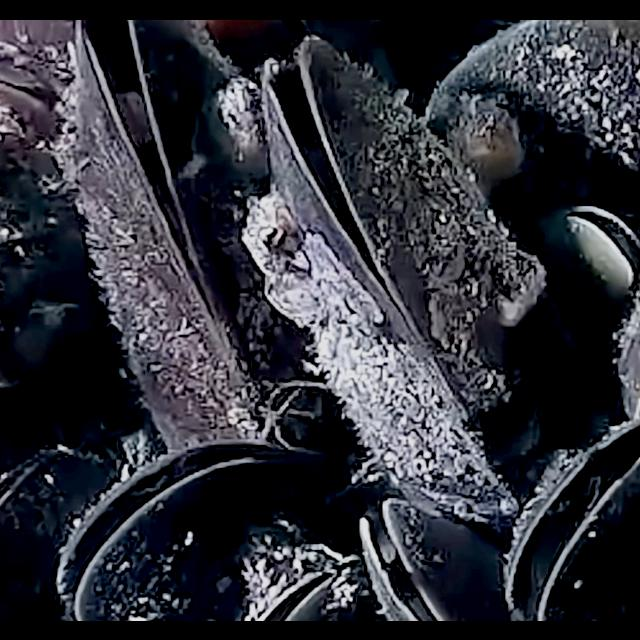Oyster-Closed: (426, 19, 640, 290), (0, 132, 92, 390)
Oyster-Open: (249, 32, 565, 522), (63, 19, 327, 455), (61, 438, 336, 620), (508, 416, 640, 620), (1, 444, 128, 620), (358, 496, 514, 620), (0, 36, 80, 140), (563, 200, 640, 291), (257, 562, 345, 620)
